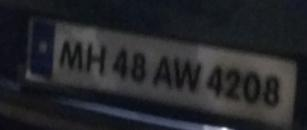0: (242, 71, 263, 103)
2: (223, 67, 243, 105)
4: (205, 61, 226, 97), (110, 45, 130, 79)
8: (261, 74, 283, 110), (132, 50, 148, 84)
A: (152, 54, 174, 89)
H: (86, 40, 107, 75)
M: (58, 38, 84, 71)
W: (173, 56, 203, 92)
